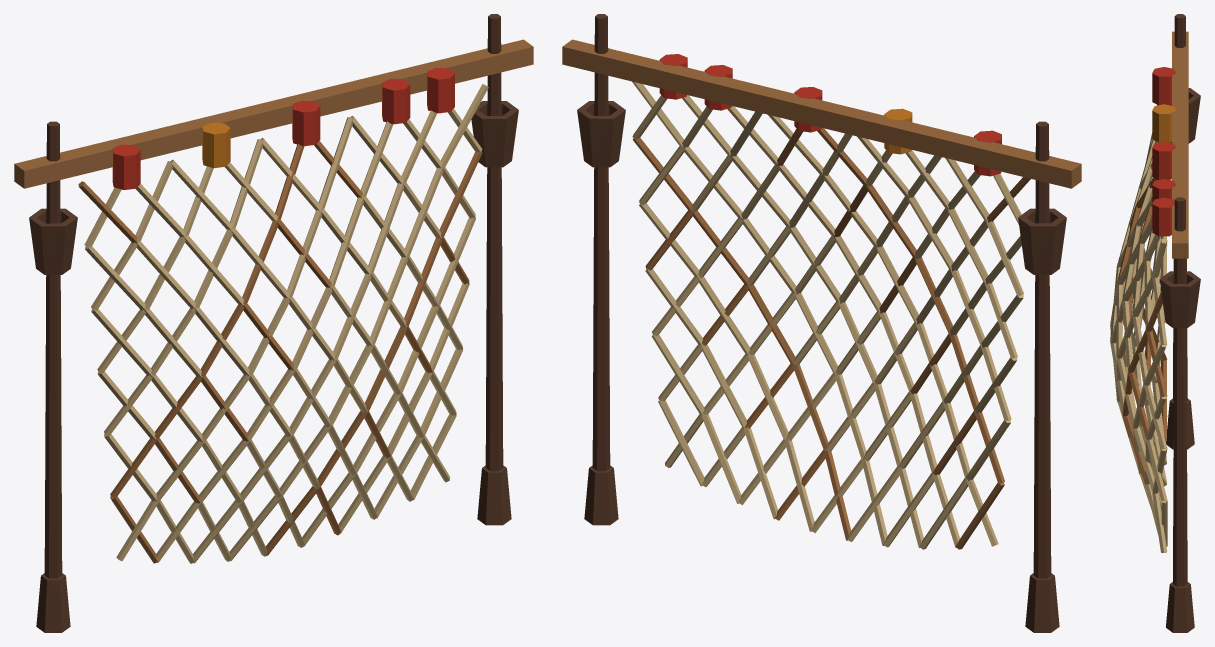
The model's file is drying-net.glb.
The picture shows the model from 3 angles, left to right: view 1: azimuth 30°, elevation 25°; view 2: azimuth 150°, elevation 25°; view 3: azimuth 270°, elevation 25°; orthographic projection. The views are drawn at different scales.
Parts seen in each view (by area): view 1: drying-net; view 2: drying-net; view 3: drying-net.
Boxes of the visible parts, x1,y1,x2,y2 form: drying-net: [14, 14, 533, 632]; drying-net: [562, 14, 1081, 632]; drying-net: [1110, 14, 1200, 632].
Bounding box in the file's own units: 1.94 × 1.83 × 0.3518.
